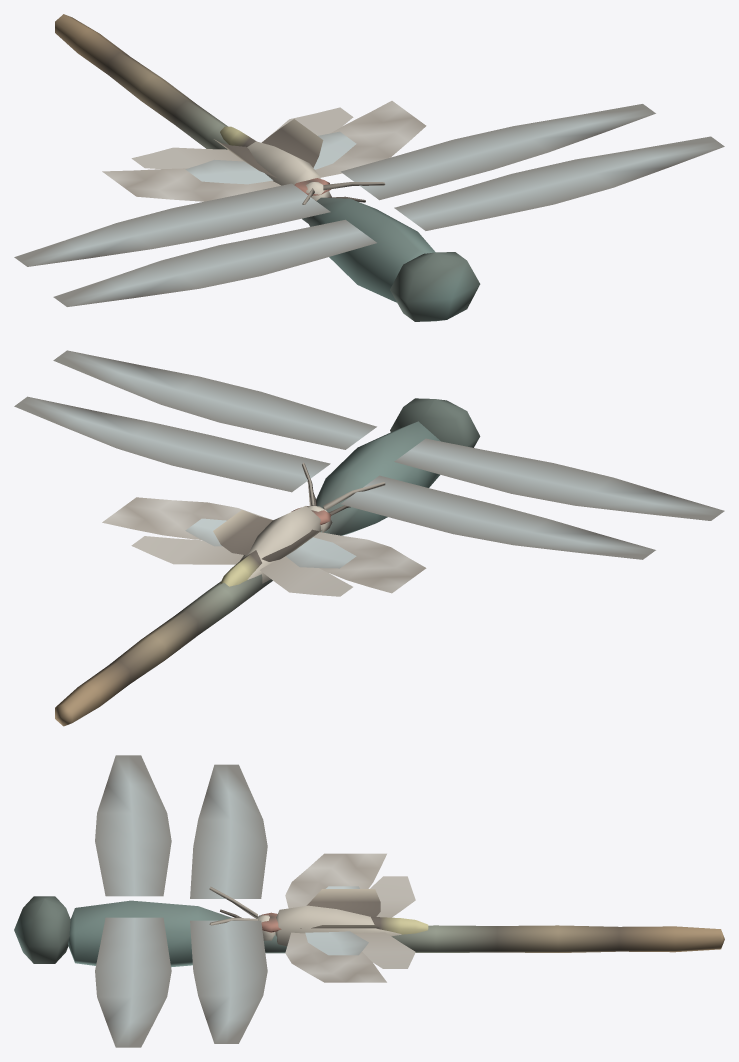
Rendered from insect.glb.
3 views of the same model, one above another, from view 1: azimuth 30°, elevation 25°; view 2: azimuth 150°, elevation 25°; view 3: azimuth 270°, elevation 25° (orthographic). The views are drawn at different scales.
Parts seen in each view (by area): view 1: insect_dragonfly, insect_moth, insect_firefly; view 2: insect_dragonfly, insect_moth, insect_firefly; view 3: insect_dragonfly, insect_moth, insect_firefly.
Part boxes in pixels (x1,y1,x2,y2): insect_dragonfly: (14, 14, 724, 321); insect_moth: (102, 101, 426, 204); insect_firefly: (185, 119, 365, 202); insect_dragonfly: (14, 350, 724, 726); insect_moth: (102, 462, 426, 596); insect_firefly: (185, 493, 356, 586); insect_dragonfly: (14, 755, 724, 1047); insect_moth: (209, 853, 415, 982); insect_firefly: (220, 886, 428, 955).
Bounding box in the file's own units: 0.068 × 0.0078 × 0.0699.
